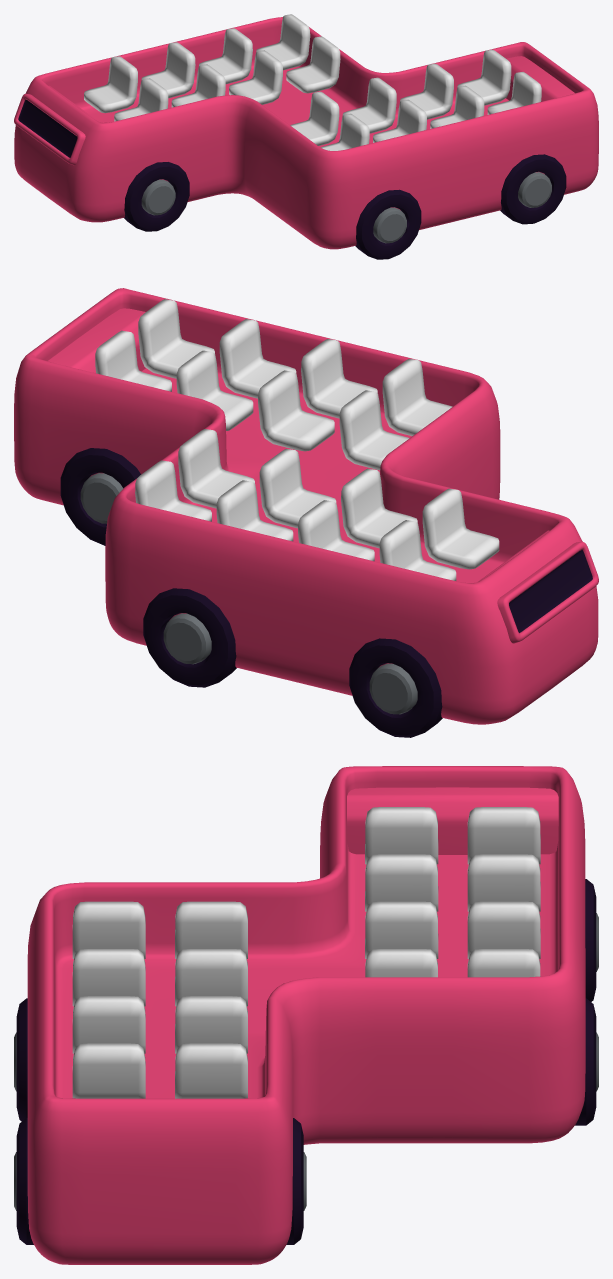
The model's file is car_L_S.fbx.
3 views of the same model, one above another, from view 1: azimuth 30°, elevation 25°; view 2: azimuth 150°, elevation 25°; view 3: azimuth 270°, elevation 25° (orthographic). The views are drawn at different scales.
Visible parts, largest first — view 1: Cube.062, Cube.061, Cube.070, Cylinder.028, Cylinder.027, Cylinder.025, Cube.068; view 2: Cube.062, Cube.070, Cube.061, Cylinder.025, Cylinder.027, Cylinder.028, Cube.068; view 3: Cube.062, Cube.070, Cube.061, Cylinder.028, Cylinder.027, Cylinder.025.
Boxes of the visible parts, x1=… form: Cube.062: x1=14, y1=17, x2=598, y2=249; Cube.061: x1=84, y1=14, x2=340, y2=121; Cube.070: x1=290, y1=49, x2=541, y2=150; Cylinder.028: x1=500, y1=154, x2=566, y2=224; Cylinder.027: x1=355, y1=189, x2=421, y2=259; Cylinder.025: x1=124, y1=162, x2=189, y2=231; Cube.068: x1=18, y1=99, x2=77, y2=157; Cube.062: x1=14, y1=288, x2=598, y2=724; Cube.070: x1=95, y1=299, x2=452, y2=470; Cube.061: x1=135, y1=429, x2=499, y2=580; Cylinder.025: x1=349, y1=638, x2=442, y2=737; Cylinder.027: x1=143, y1=588, x2=236, y2=687; Cylinder.028: x1=60, y1=448, x2=140, y2=545; Cube.068: x1=509, y1=550, x2=592, y2=632; Cube.062: x1=27, y1=766, x2=585, y2=1264; Cube.070: x1=72, y1=901, x2=247, y2=1098; Cube.061: x1=365, y1=807, x2=540, y2=977; Cylinder.028: x1=14, y1=1118, x2=306, y2=1244; Cylinder.027: x1=14, y1=998, x2=598, y2=1125; Cylinder.025: x1=585, y1=879, x2=598, y2=1001.
Size of the model in its own units: 645 by 173 by 440.
